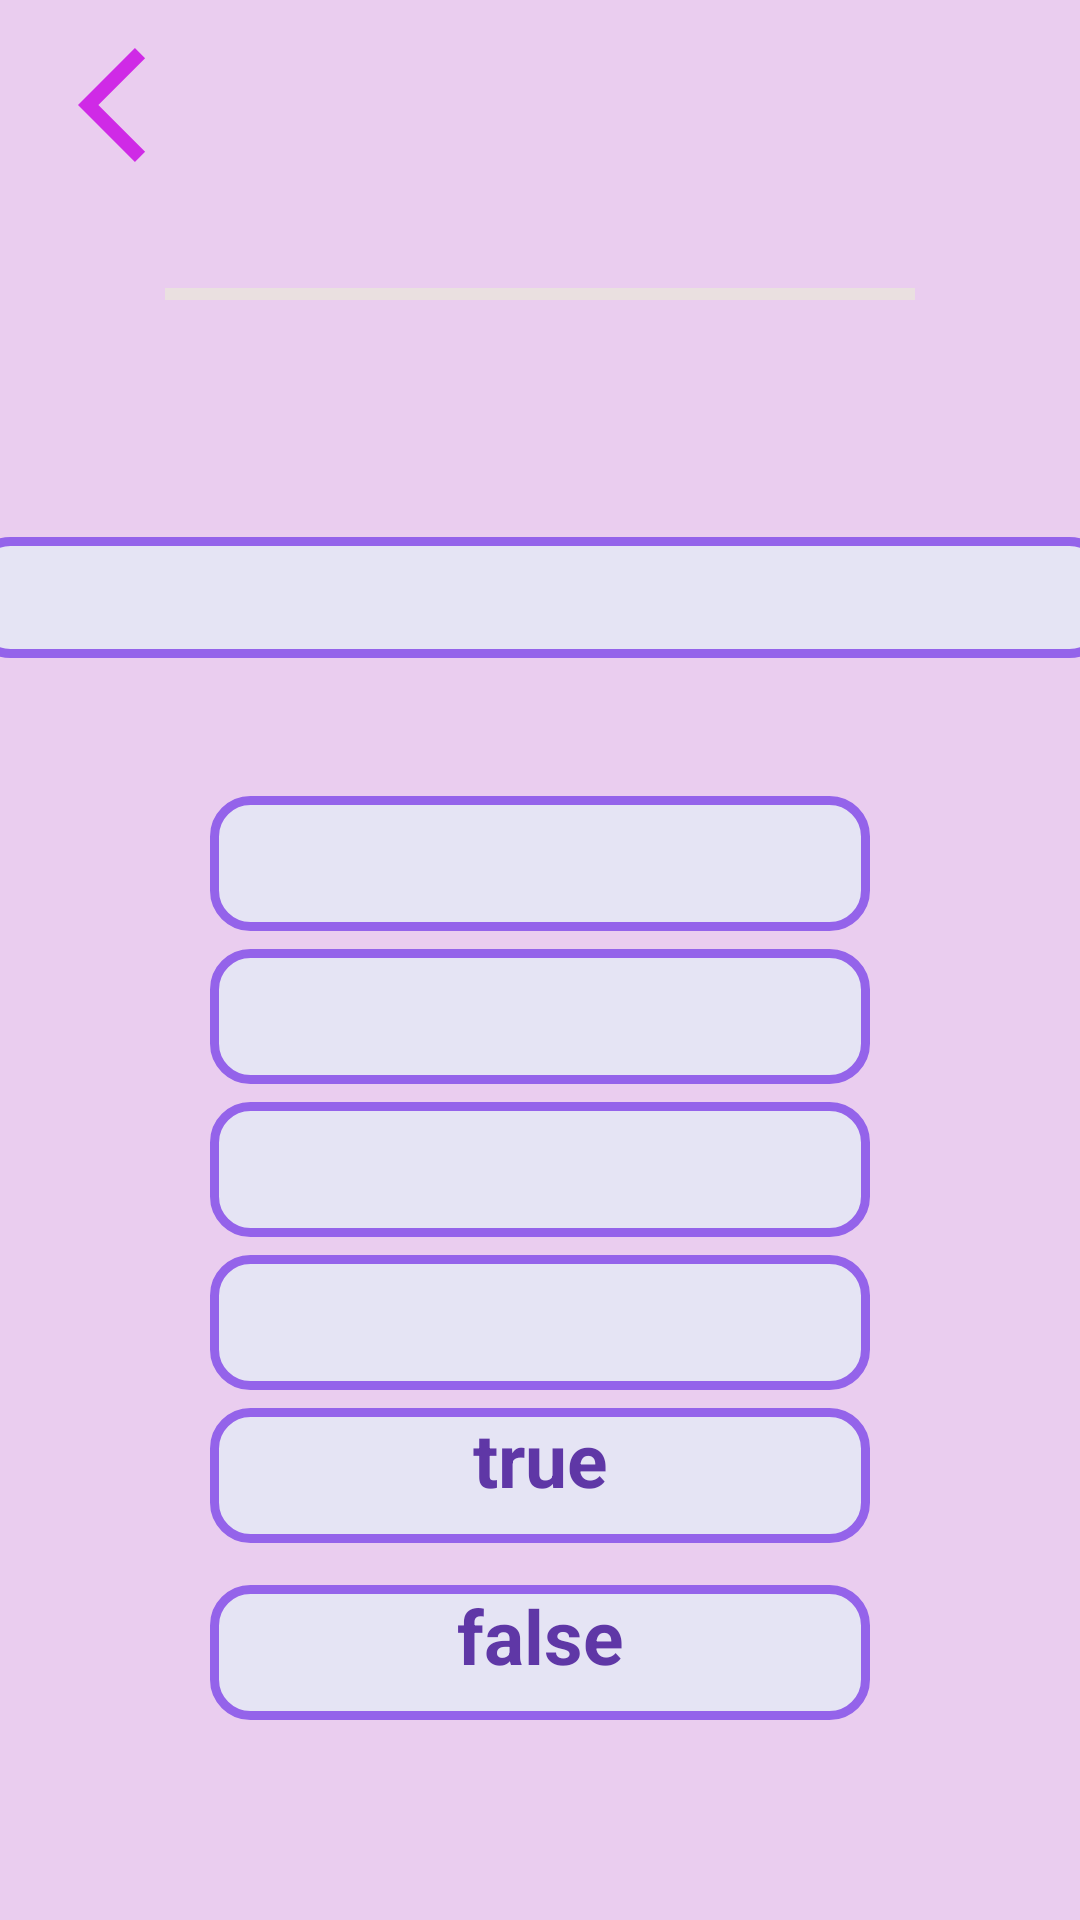

Screen size 1080 × 1920. Icon name, then its center in pixels as point (x, y):
arrow back: point (111, 105)
